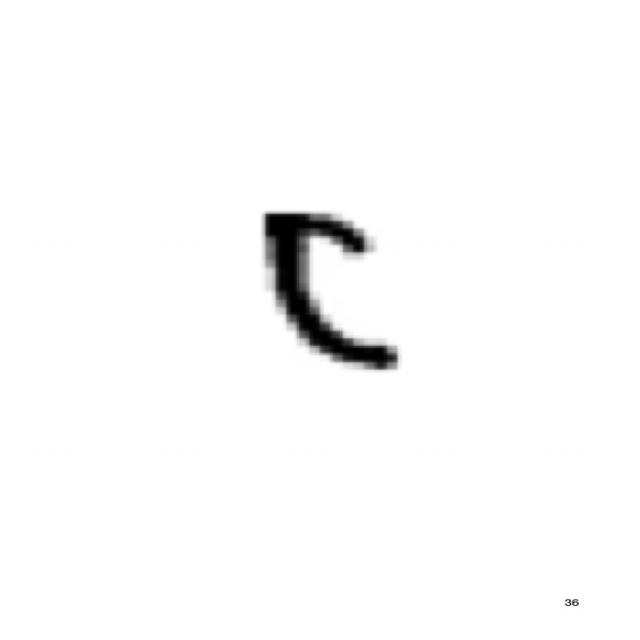2 -two-: (245, 188, 407, 384)
